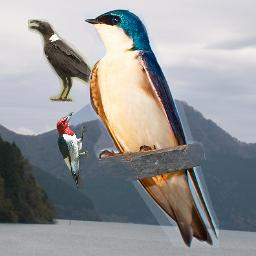Crow: (28, 19, 106, 102)
Swallow: (84, 8, 219, 248)
Woodpecker: (56, 112, 88, 189)
